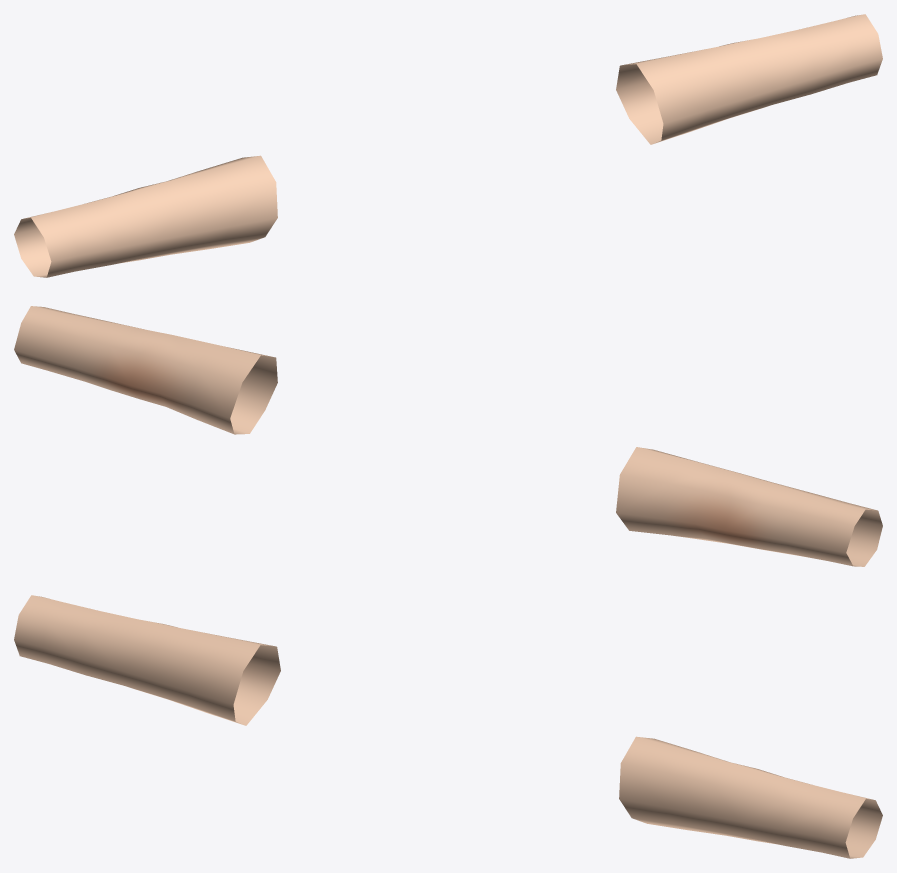
File: Body_White_ArmA_2.fbx
3 views of the same model, one above another, from view 1: azimuth 30°, elevation 25°; view 2: azimuth 150°, elevation 25°; view 3: azimuth 330°, elevation 25° (orthographic).
Parts seen in each view (by area): view 1: Body_White_ArmA_2; view 2: Body_White_ArmA_2; view 3: Body_White_ArmA_2.
Boxes of the visible parts, box(x1,y1,x2,y2) form: Body_White_ArmA_2: box(14, 14, 882, 277); Body_White_ArmA_2: box(14, 306, 882, 566); Body_White_ArmA_2: box(14, 595, 882, 858).
Bounding box in the file's own units: 95.86 × 9.1 × 9.47.
